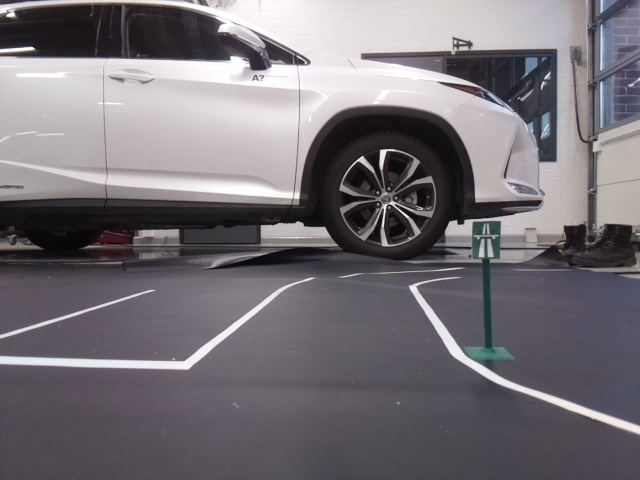HighwayEntrance: (472, 220, 500, 259)
